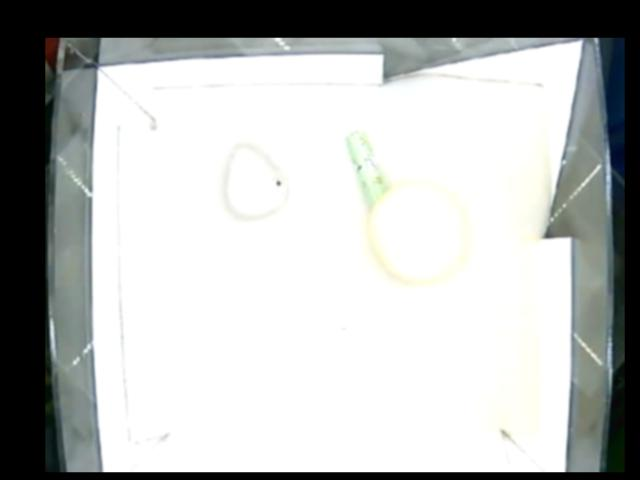Battery: (344, 130, 384, 208)
Mooli: (363, 178, 467, 287)
Pebble: (222, 139, 288, 221)
